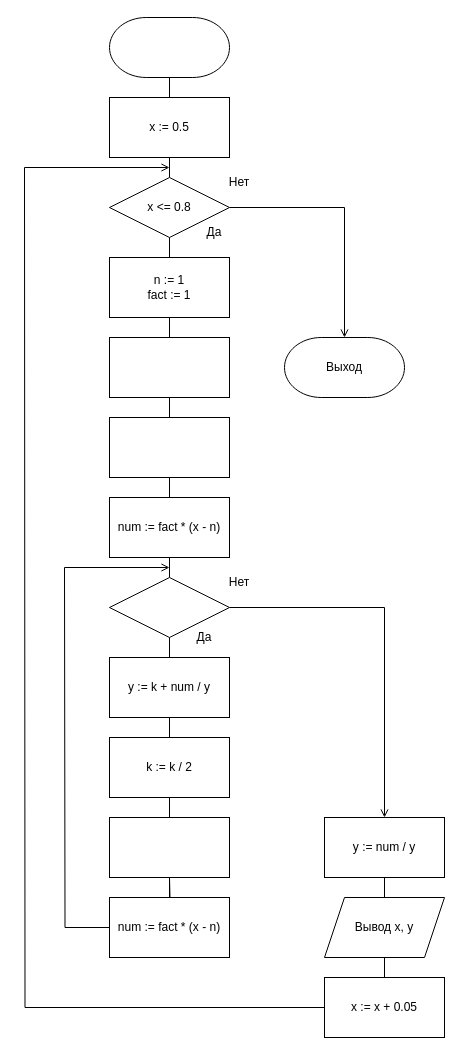
The diagram is 462 pixels wide and 1055 high, and some of its shapes have lost their labels. The box of each missing label's shape, as (x1, y1, x2, y2) in pixels:
k := 2024: (108, 416, 230, 478)
n := n + 1 fact := fact * n: (108, 816, 230, 878)
n < 15: (108, 576, 230, 638)
Начало: (108, 16, 230, 78)
у := 4048: (108, 336, 230, 398)
